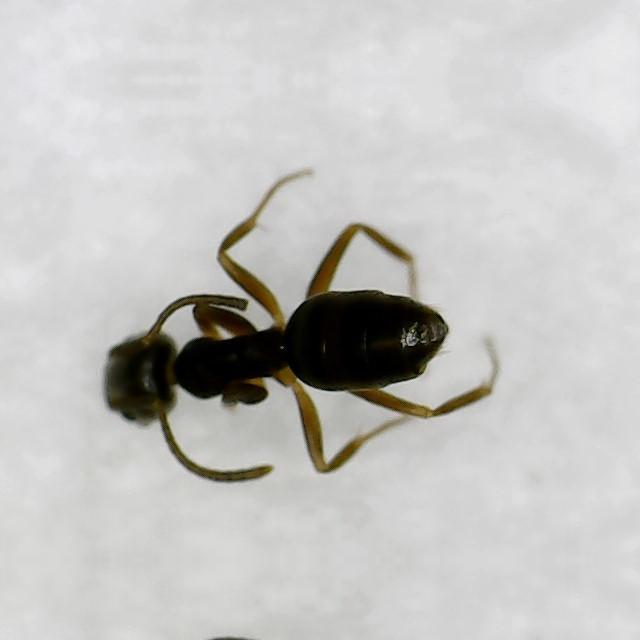Tapinoma: (56, 216, 500, 487)
